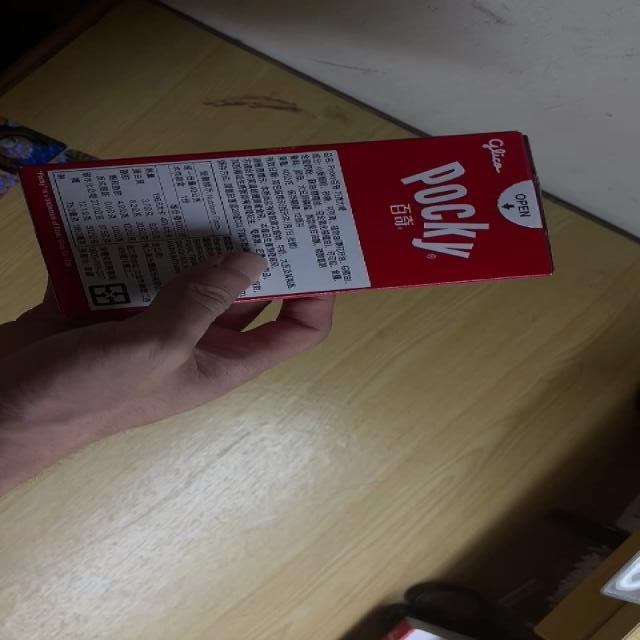Pocky: (15, 130, 558, 323)
